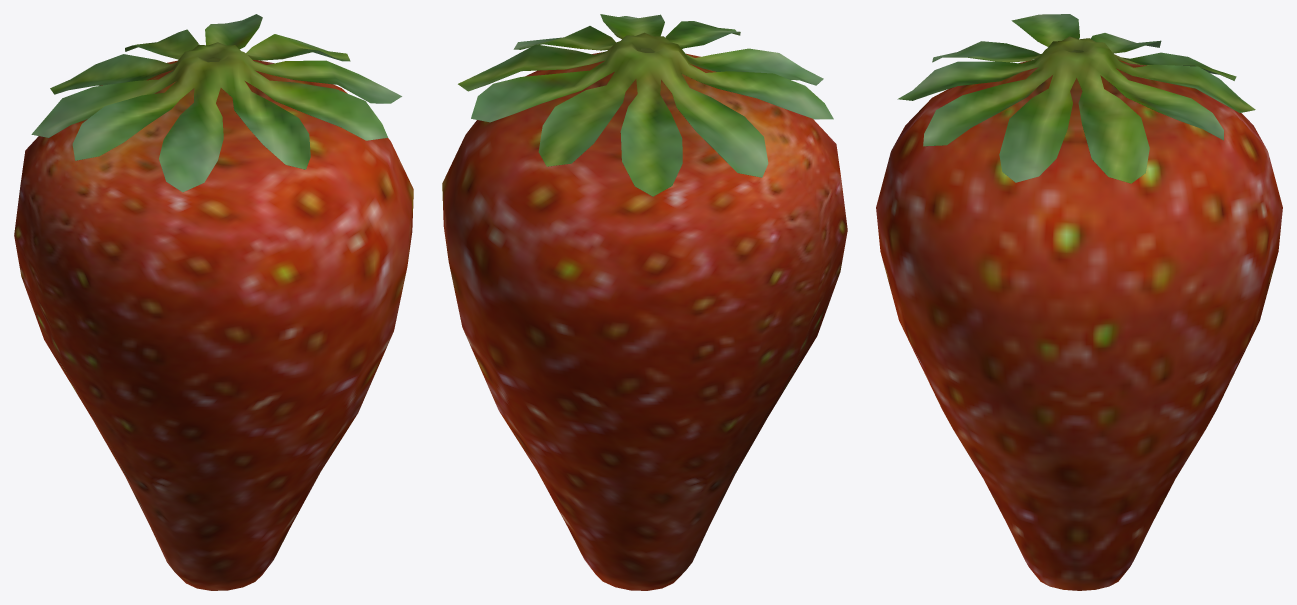
Rendered from strawb_02.fbx.
The picture shows the model from 3 angles, left to right: view 1: azimuth 30°, elevation 25°; view 2: azimuth 150°, elevation 25°; view 3: azimuth 270°, elevation 25°; orthographic projection.
Visible parts, largest first — view 1: model_7.002; view 2: model_7.002; view 3: model_7.002.
Part boxes in pixels (x1,y1,x2,y2): model_7.002: [14, 14, 413, 590]; model_7.002: [442, 14, 847, 590]; model_7.002: [876, 14, 1282, 590].
Bounding box in the file's own units: 98.59 × 144 × 98.84.
